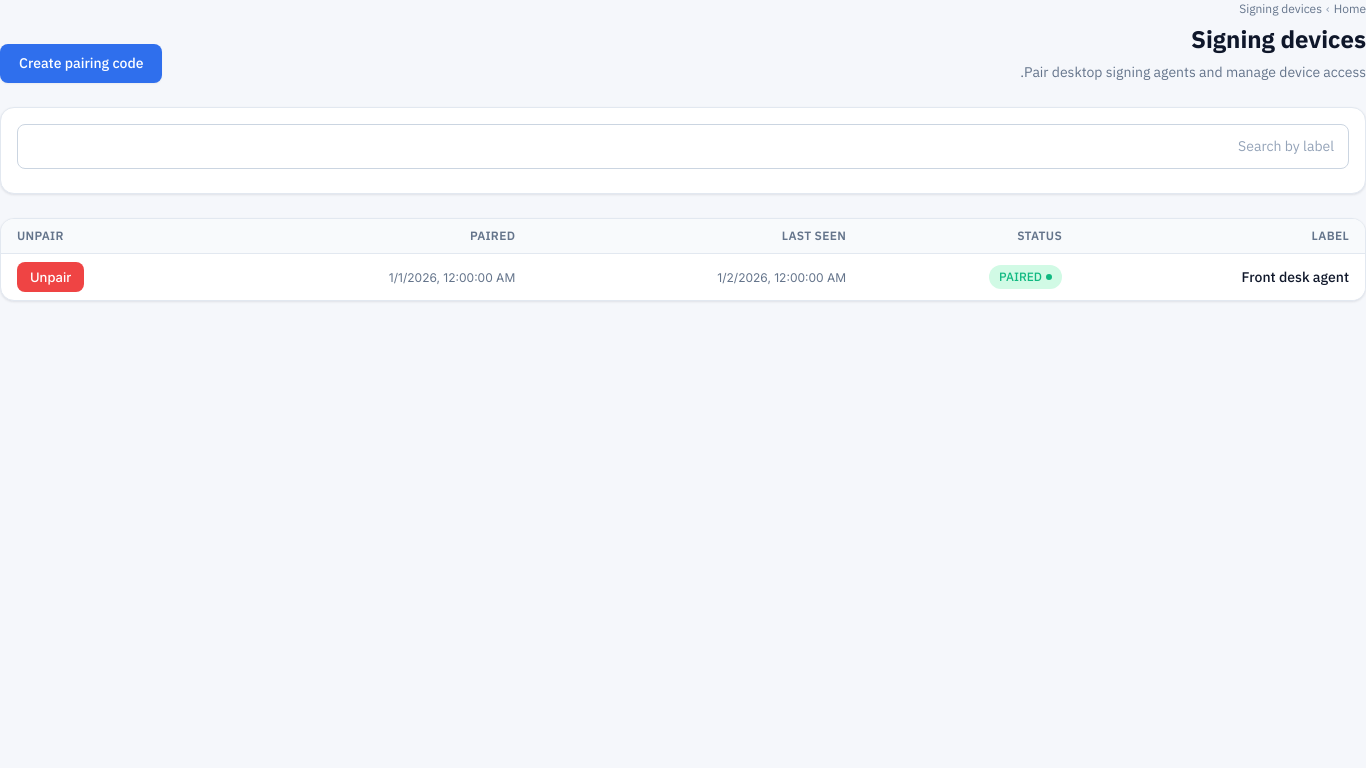
Scenario: devices page › does not unpair until confirmation
Click the button "Unpair": (51, 277) [17, 262, 84, 292]
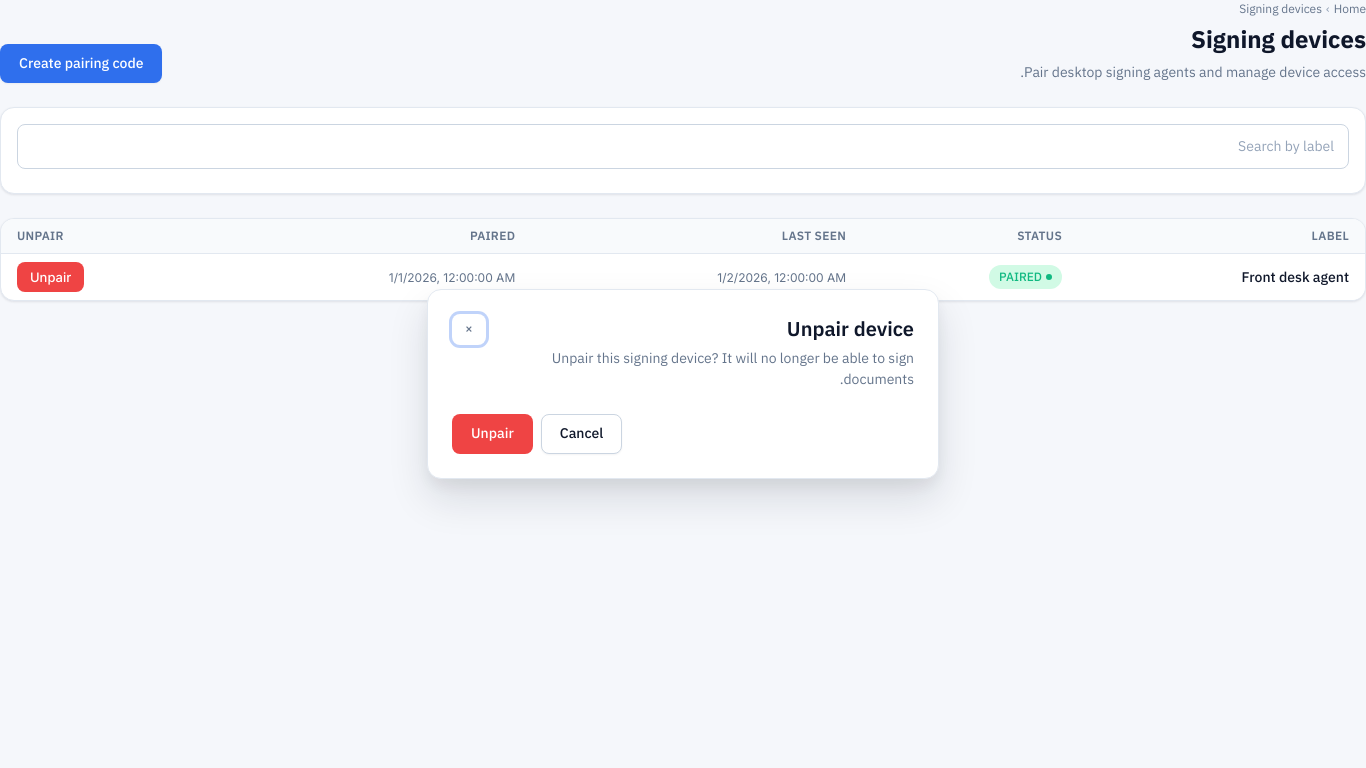
Click the button "Cancel": (582, 434) [541, 414, 622, 454]
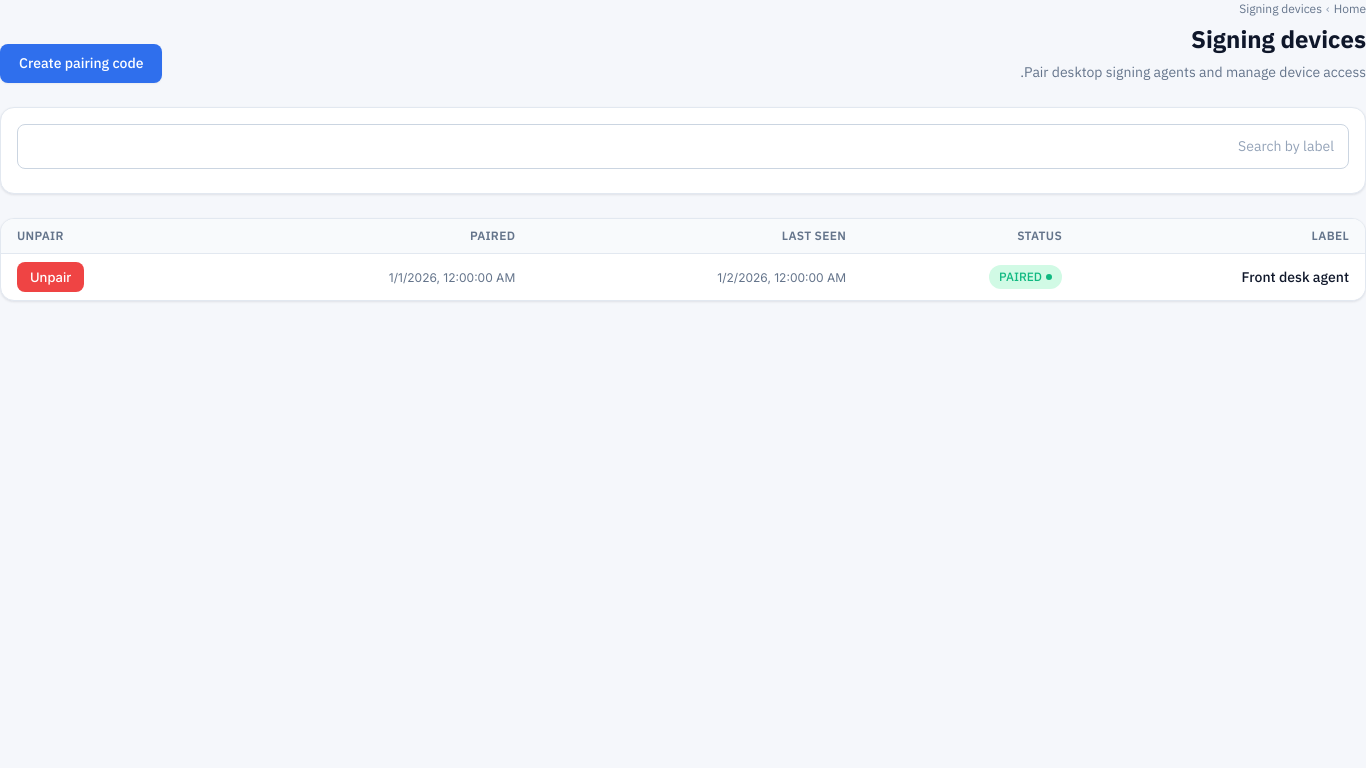
Expected: the dialog is gone
